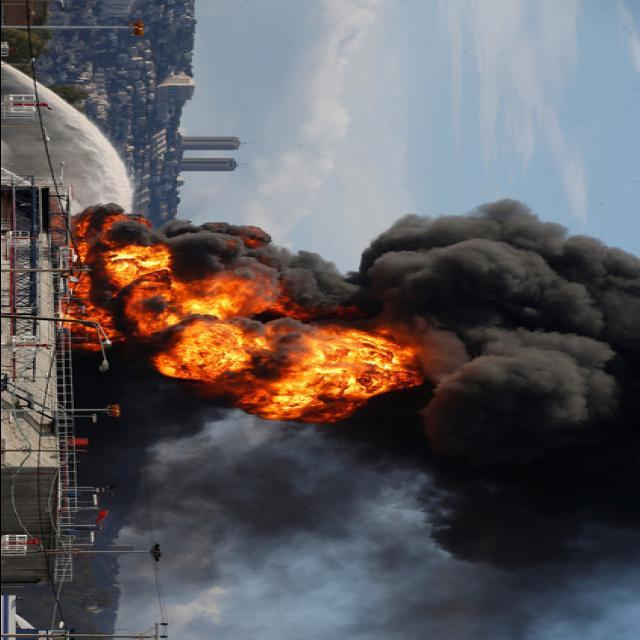Fire: (71, 228, 414, 422)
